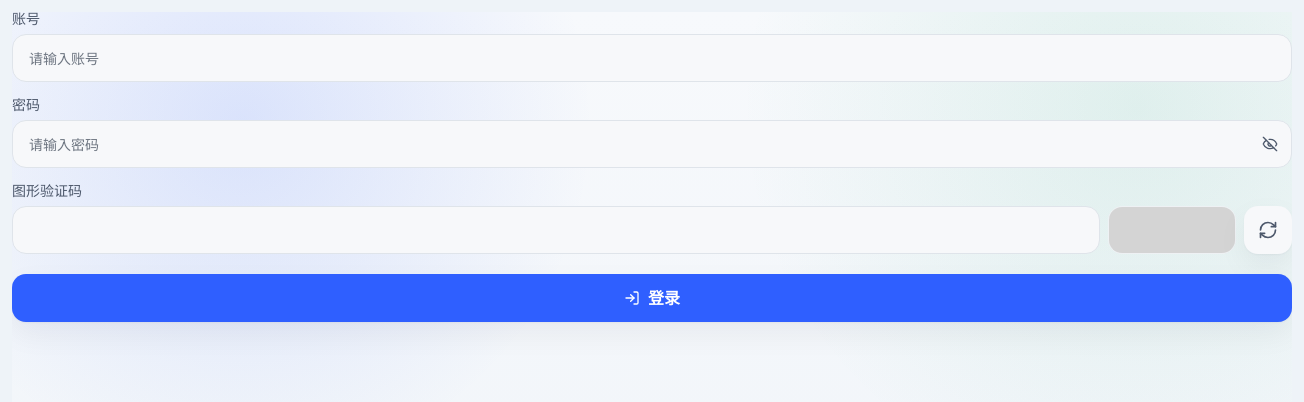
it: UserAuthForm › shows the captcha error message when the captcha is invalid
In the field labelled "账号": (652, 58) left=12, top=34, right=1292, bottom=82, type "admin"
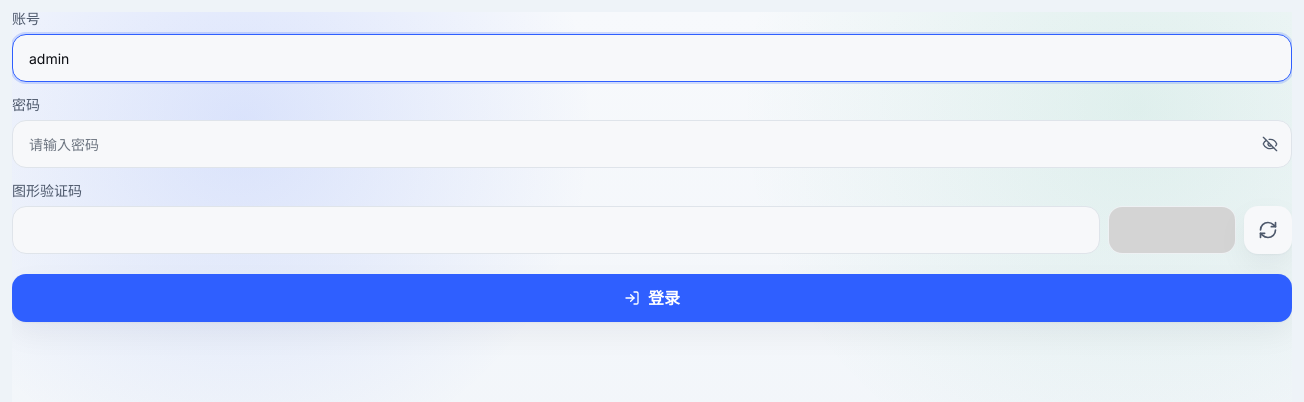
In the password field labelled "密码": (652, 144) left=12, top=120, right=1292, bottom=168, type "admin"
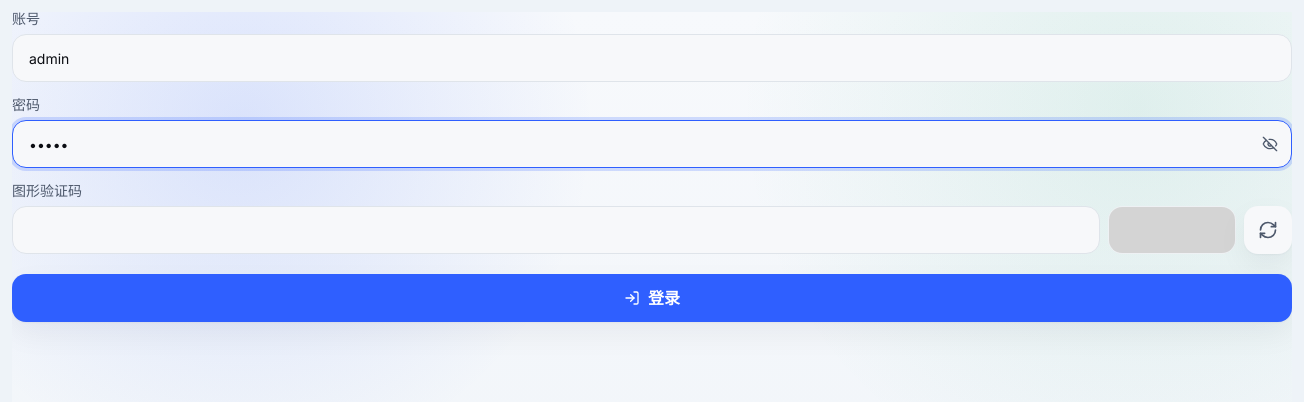
In the field labelled "图形验证码": (556, 230) left=12, top=206, right=1100, bottom=254, type "ZZZZ"
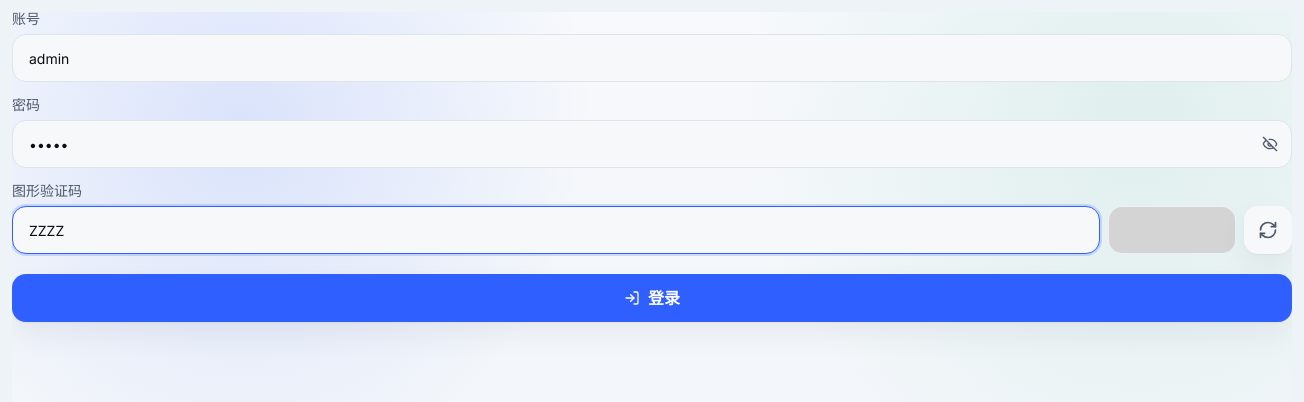
Click the button "登录": click(652, 298) left=12, top=274, right=1292, bottom=322
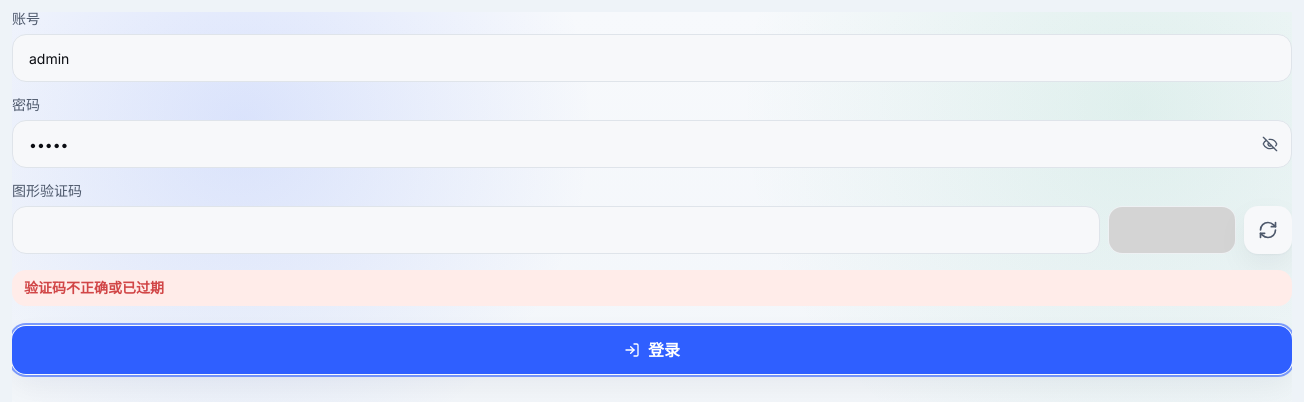
Now the text "验证码不正确或已过期" is shown, box left=12, top=270, right=1292, bottom=306
Now the field labelled "图形验证码" is empty, box left=12, top=206, right=1100, bottom=254
